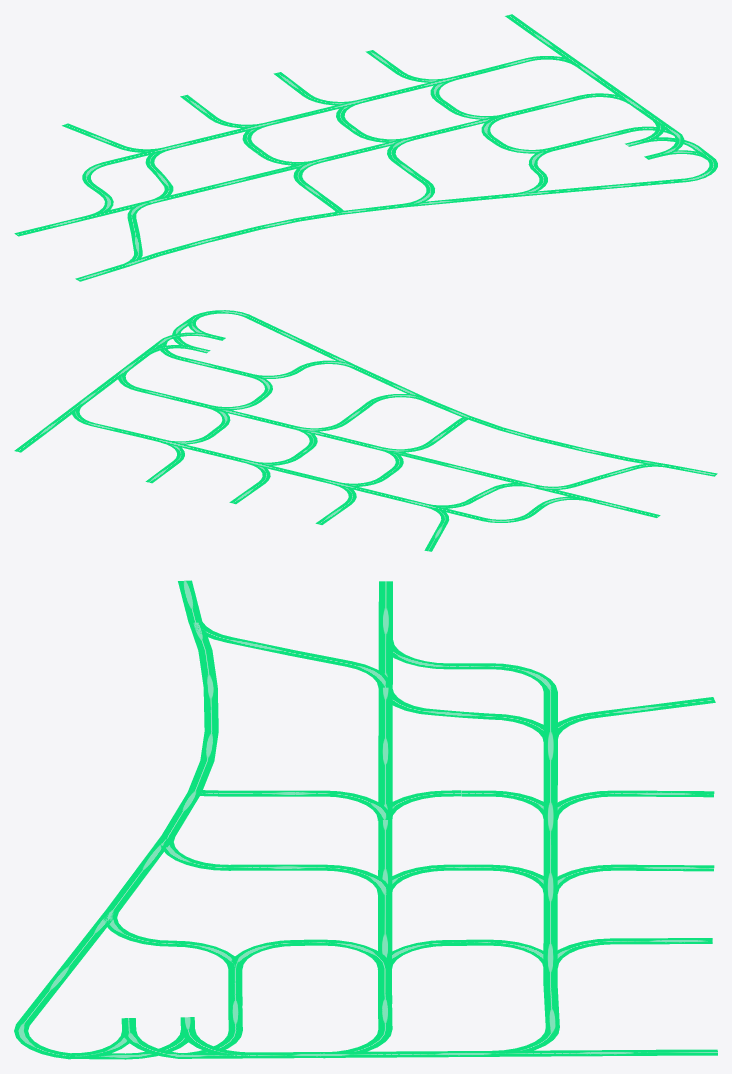
File: power_MAIN.fbx
The picture shows the model from 3 angles, top to bottom: view 1: azimuth 30°, elevation 25°; view 2: azimuth 150°, elevation 25°; view 3: azimuth 270°, elevation 25°; orthographic projection. The views are drawn at different scales.
Parts seen in each view (by area): view 1: power_main; view 2: power_main; view 3: power_main.
Part boxes in pixels (<box>): power_main: <box>14,14,717,281</box>; power_main: <box>14,310,717,551</box>; power_main: <box>14,580,717,1059</box>.
Size of the model in its own units: 414746 by 115 by 257456.
